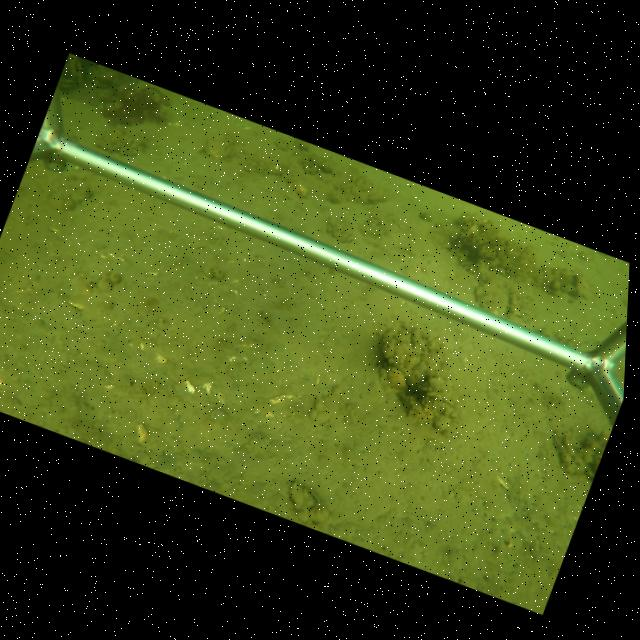Oyster-Closed: (287, 478, 322, 520)
